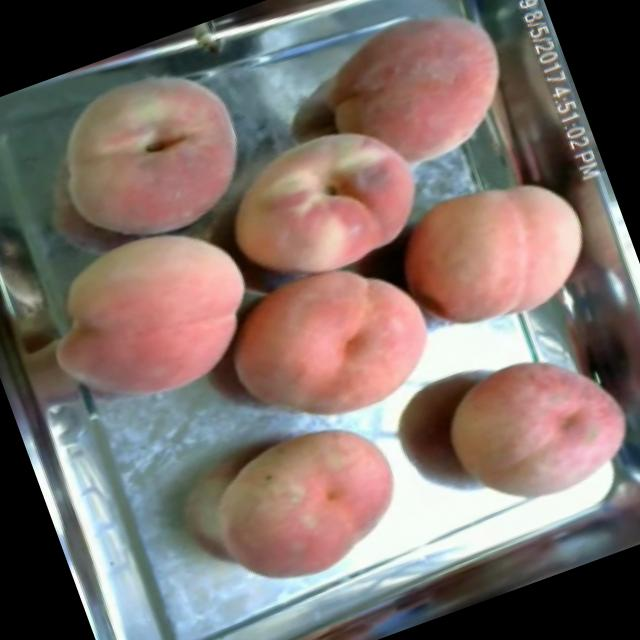Fruit: (12, 192, 286, 440), (25, 35, 278, 276), (201, 238, 462, 462), (195, 85, 446, 302), (186, 396, 430, 614), (288, 0, 540, 205), (377, 145, 618, 358), (416, 318, 640, 537)
